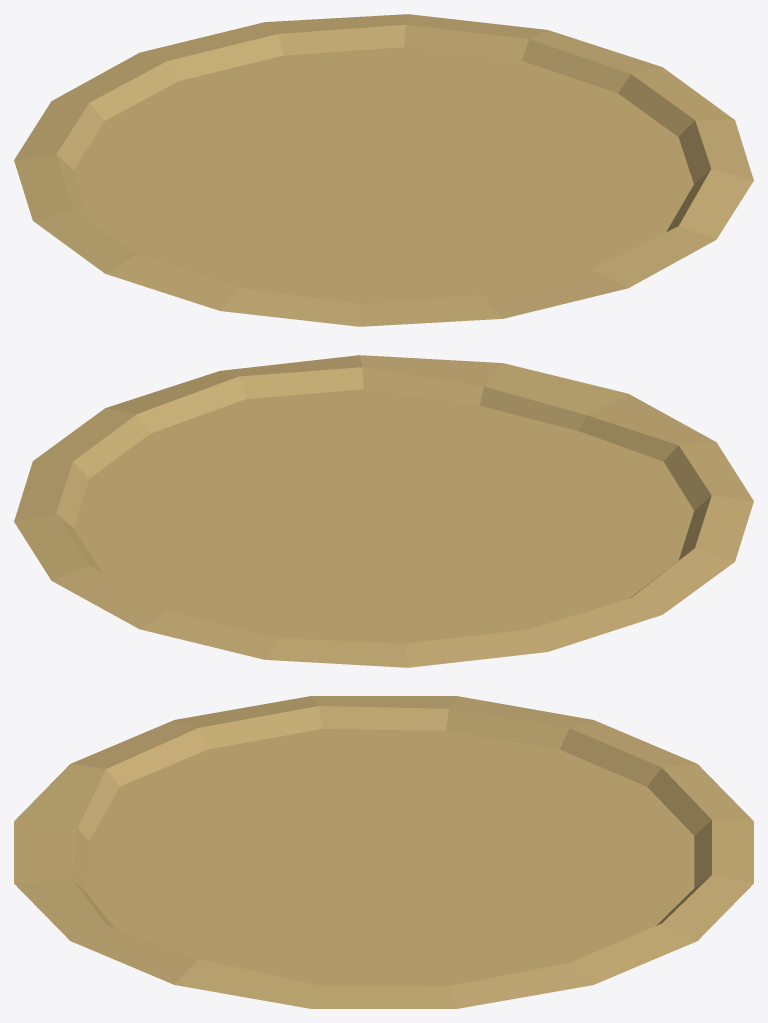
Rendered from Pitsa_Collider2.fbx.
3 renders of one model, top to bottom at view 1: azimuth 30°, elevation 25°; view 2: azimuth 150°, elevation 25°; view 3: azimuth 270°, elevation 25°, orthographic.
Visible parts, largest first — view 1: Pitsa-Collider; view 2: Pitsa-Collider; view 3: Pitsa-Collider.
Part boxes in pixels (left/top/right/bottom): Pitsa-Collider: left=14, top=14, right=753, bottom=326; Pitsa-Collider: left=14, top=355, right=753, bottom=667; Pitsa-Collider: left=14, top=696, right=753, bottom=1008.
Bounding box in the file's own units: 193 × 7.16 × 193.
